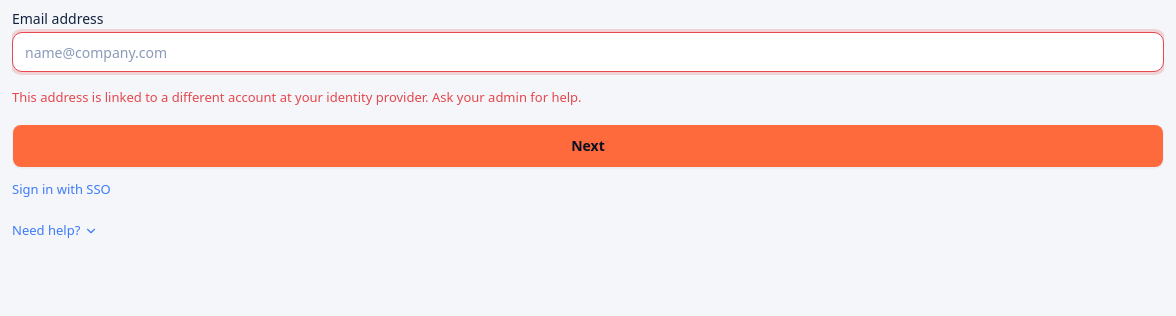
sign-in with SSO › explains an SSO error and an unknown organisation
Expected: the message shows "linked to a different account", left=12, top=88, right=582, bottom=106
Click the button "Sign in with SSO". click: (61, 189)
box: left=12, top=180, right=111, bottom=199
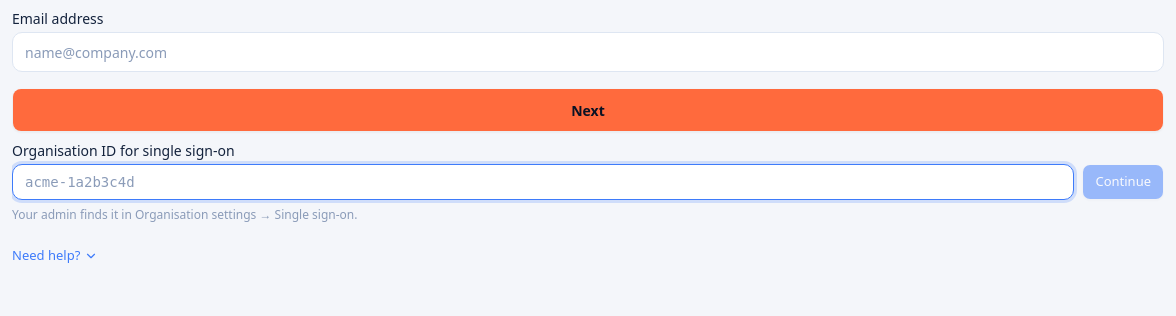
Type "nope" into the field labelled "Organisation ID for single sign-on". click: (543, 182)
box: left=12, top=164, right=1074, bottom=200
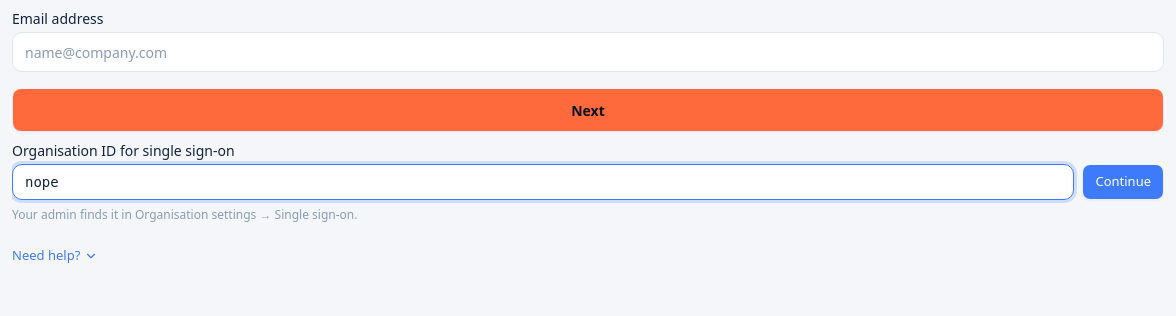
Click the button "Continue". click: (1123, 182)
box: left=1082, top=164, right=1164, bottom=200
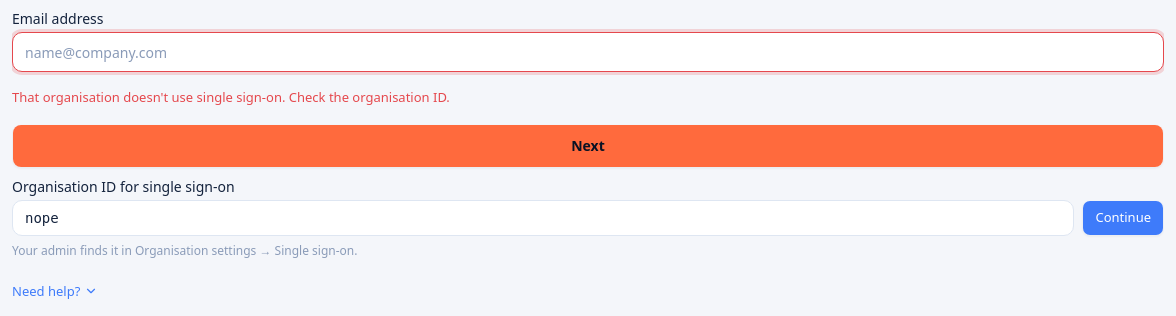
Now the message shows "doesn't use single sign-on", box left=12, top=88, right=450, bottom=106
